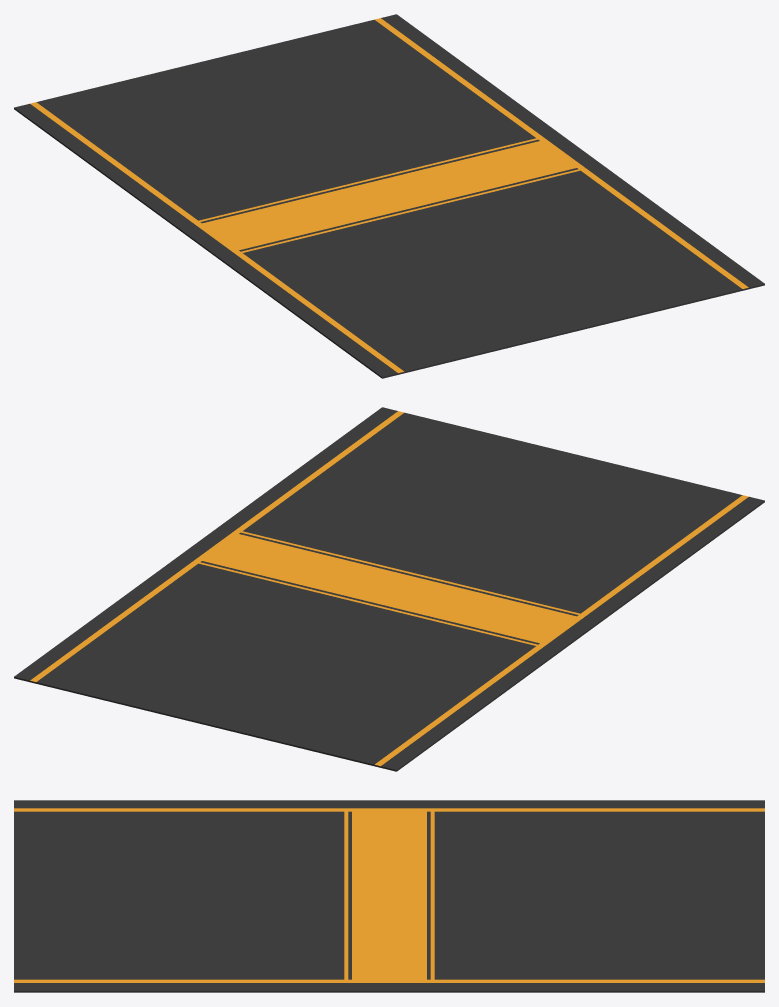
Rendered from SM_Racetrack_Plain_Straight_Start_20x20m.fbx.
The picture shows the model from 3 angles, top to bottom: view 1: azimuth 30°, elevation 25°; view 2: azimuth 150°, elevation 25°; view 3: azimuth 270°, elevation 25°; orthographic projection.
Parts seen in each view (by area): view 1: SM_Racetrack_Plain_Straight_Start_20x20m; view 2: SM_Racetrack_Plain_Straight_Start_20x20m; view 3: SM_Racetrack_Plain_Straight_Start_20x20m.
Part boxes in pixels (x1,y1,x2,y2): SM_Racetrack_Plain_Straight_Start_20x20m: [14, 14, 764, 378]; SM_Racetrack_Plain_Straight_Start_20x20m: [14, 407, 764, 771]; SM_Racetrack_Plain_Straight_Start_20x20m: [14, 800, 764, 992].
Size of the model in its own units: 12 by 0.05 by 20.
